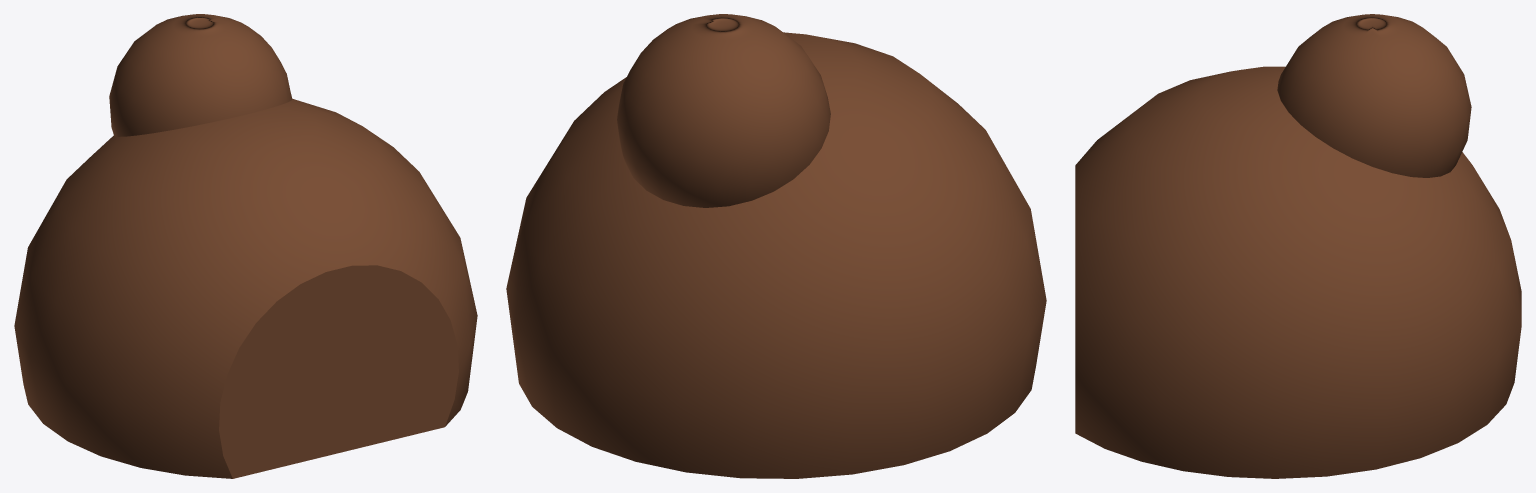
The model's file is CharHairBun.glb.
The picture shows the model from 3 angles, left to right: view 1: azimuth 30°, elevation 25°; view 2: azimuth 150°, elevation 25°; view 3: azimuth 270°, elevation 25°; orthographic projection. The views are drawn at different scales.
Visible parts, largest first — view 1: hairBrown; view 2: hairBrown; view 3: hairBrown.
Part boxes in pixels (<box>): hairBrown: <box>14,14,477,478</box>; hairBrown: <box>506,14,1046,478</box>; hairBrown: <box>1075,14,1521,478</box>.
Size of the model in its own units: 0.5496 by 0.435 by 0.4955.
